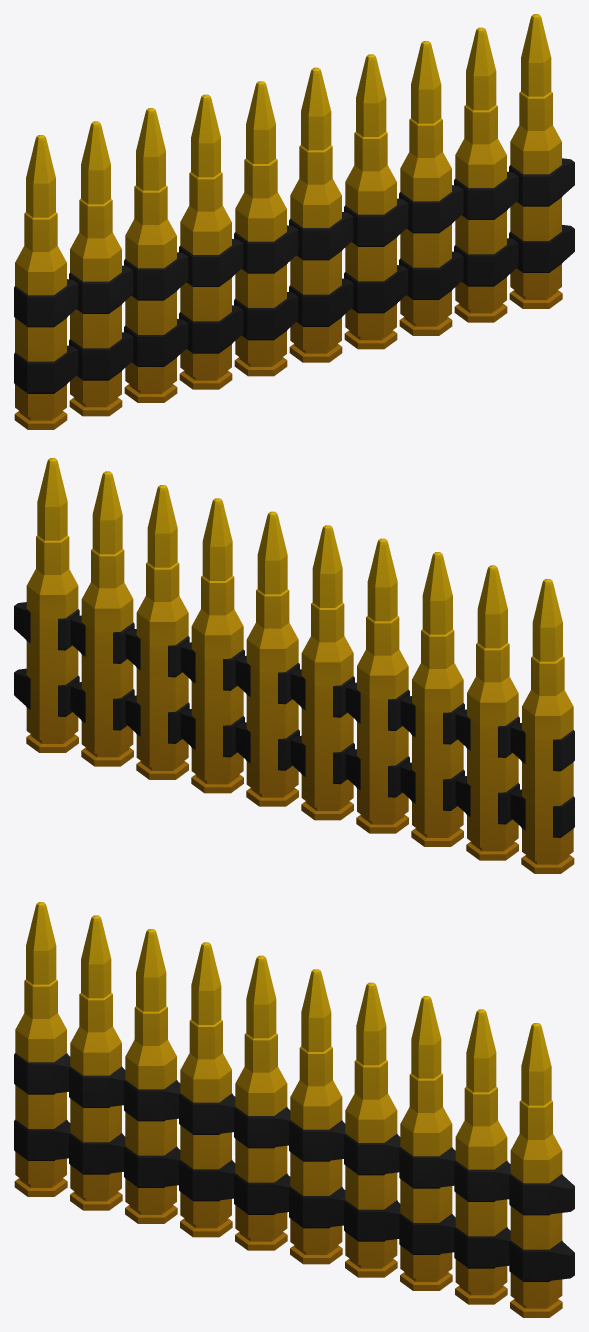
The model's file is Bullet_50Cal_V1_Belt.glb.
3 views of the same model, one above another, from view 1: azimuth 30°, elevation 25°; view 2: azimuth 150°, elevation 25°; view 3: azimuth 330°, elevation 25° (orthographic).
Visible parts, largest first — view 1: Bullet_50Cal_V1_Belt; view 2: Bullet_50Cal_V1_Belt; view 3: Bullet_50Cal_V1_Belt.
Part boxes in pixels (box(x1,y1,x2,y2)): Bullet_50Cal_V1_Belt: box(14, 14, 574, 429); Bullet_50Cal_V1_Belt: box(14, 458, 574, 873); Bullet_50Cal_V1_Belt: box(14, 902, 574, 1317).
Bounding box in the file's own units: 0.2804 × 0.138 × 0.0235.
1 material, 1 textured.
